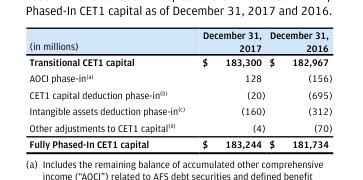table: (28, 28, 331, 149)
table column: (28, 28, 192, 149), (192, 28, 266, 149), (266, 28, 331, 149)
table column header: (28, 28, 331, 54)
table row: (28, 28, 331, 54), (28, 85, 331, 102), (28, 118, 331, 135), (28, 69, 331, 85), (28, 102, 331, 118), (28, 54, 331, 69), (28, 135, 331, 149)
